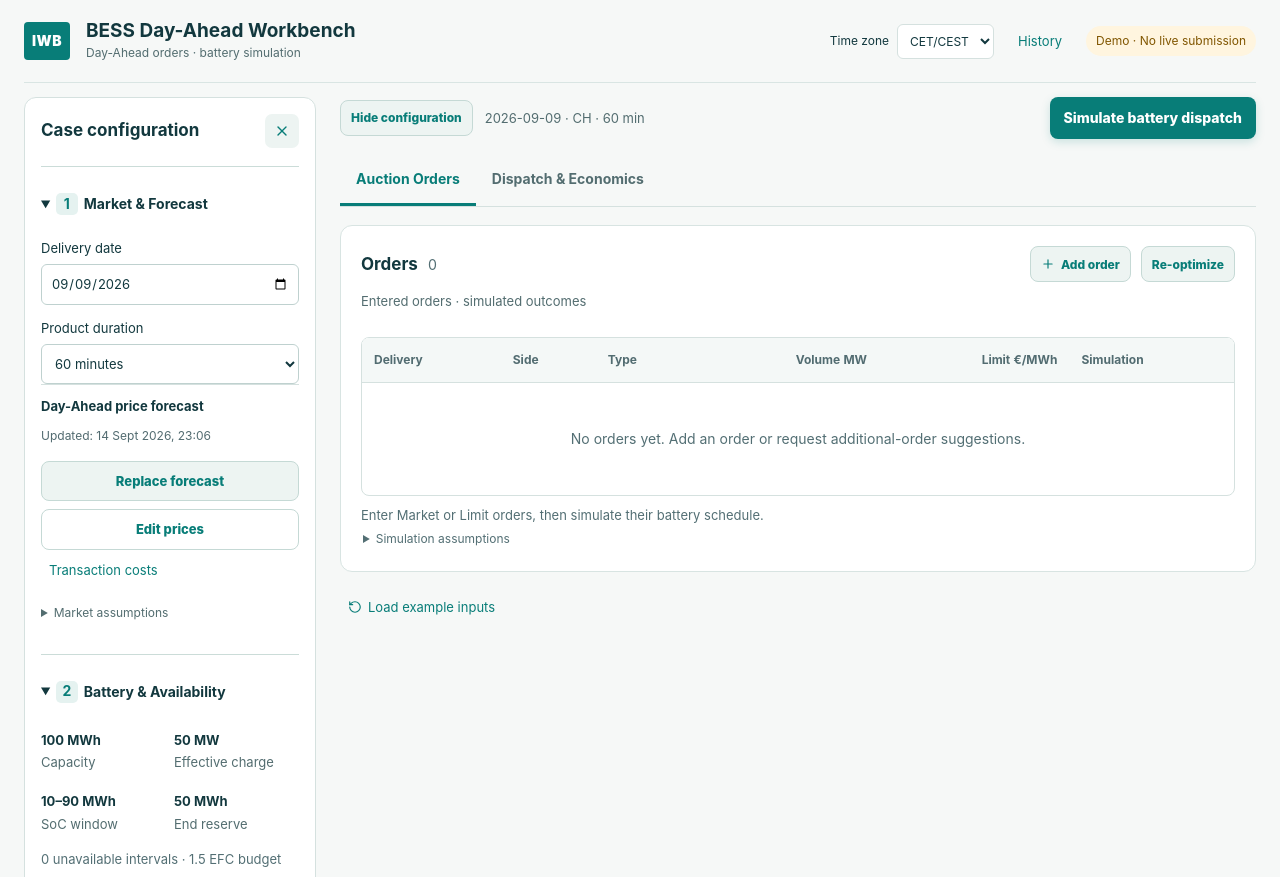
Test case: OrderSimulatorWorkbench › shows the compact forecast and all four orders, with only one editor
Check: the button "Replace forecast" is shown, box [41,460,299,501]
Click the button "Load example inputs": click(422, 607) [340,590,503,625]
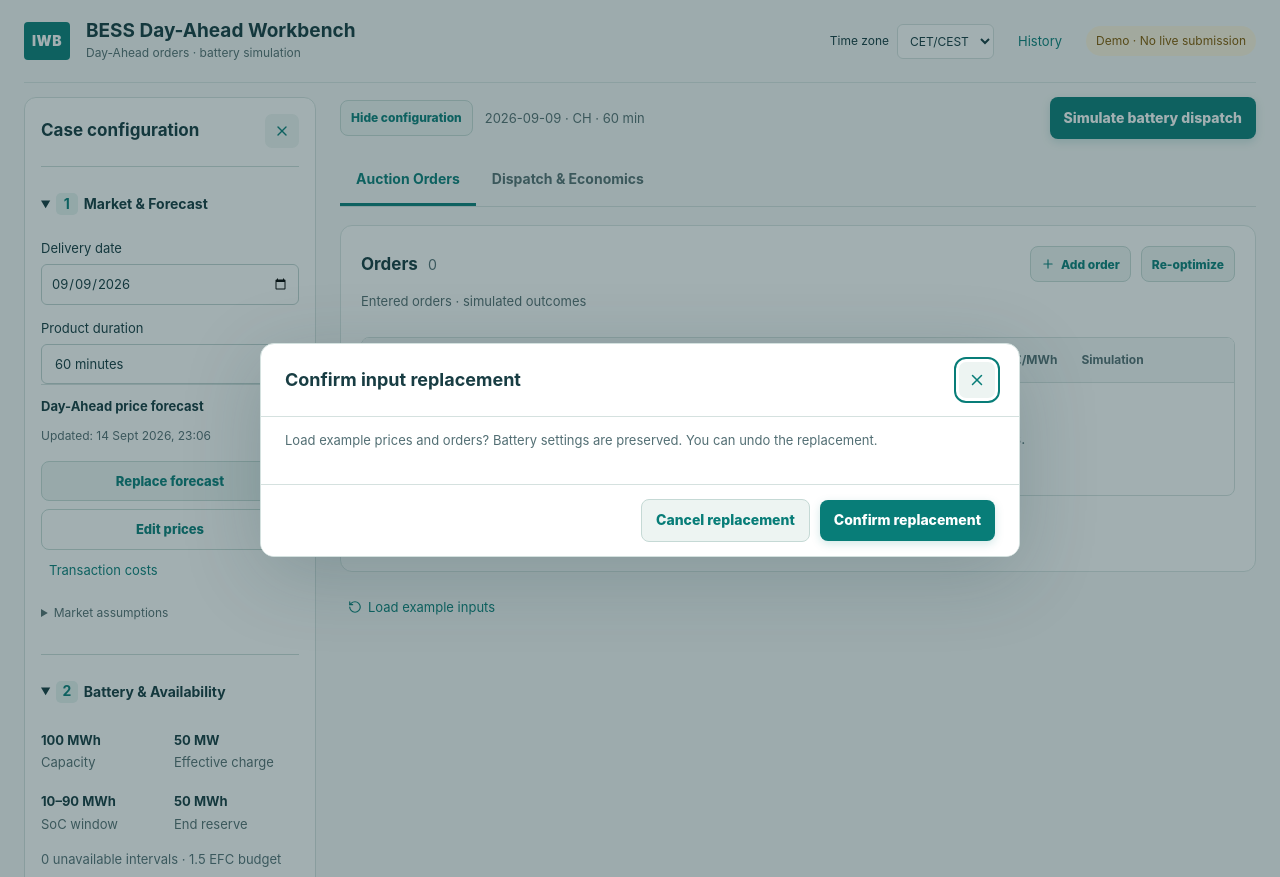
Click the button "Confirm replacement": click(907, 520) [820,500,995,541]
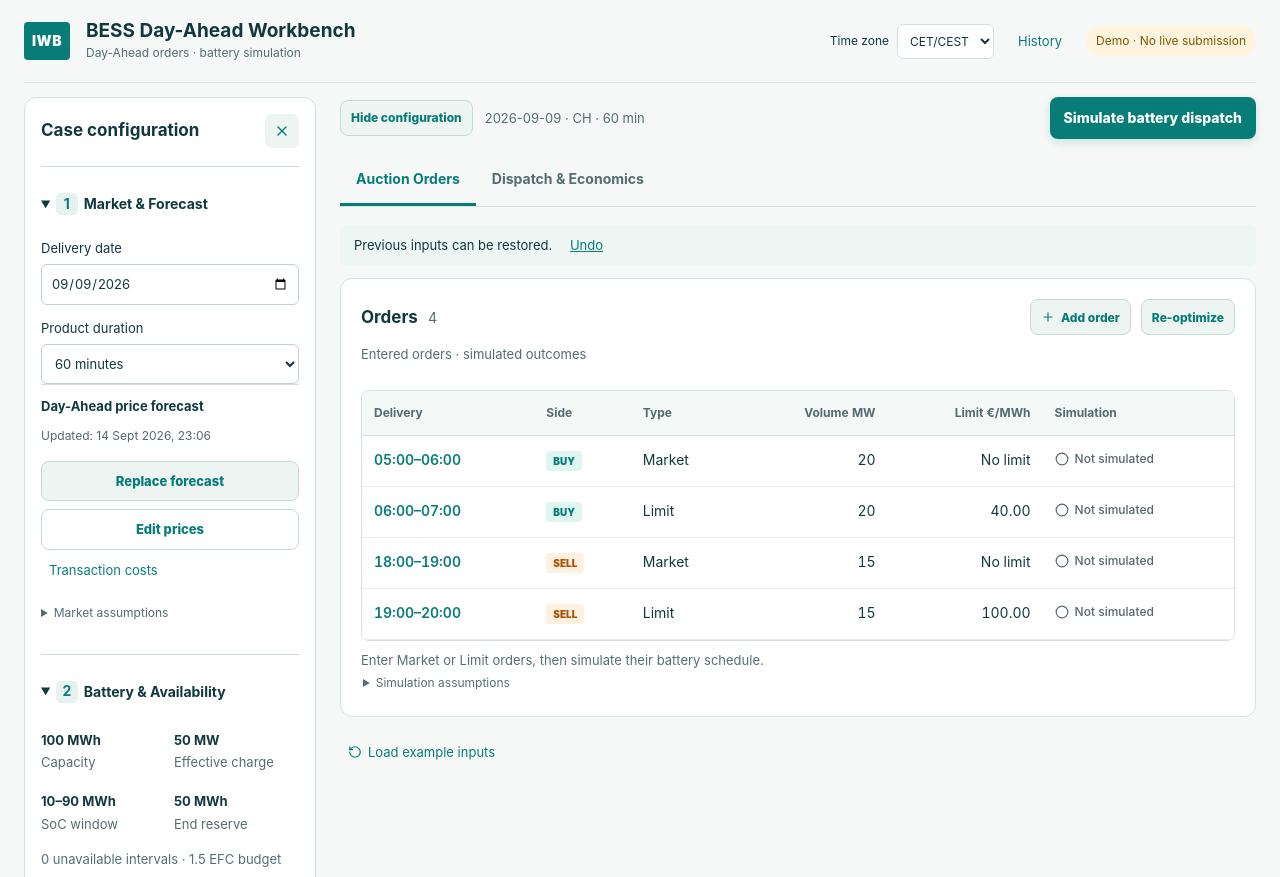
Check: the heading "BESS Day-Ahead Workbench" is shown, box [86,20,356,42]
Check: the button named "Edit 05:00–06:00 BUY order" is shown
Check: the number of buttons "05:00–06:00" is 4
Click the button named "Edit 05:00–06:00 BUY order": click(418, 461) [374,447,461,475]
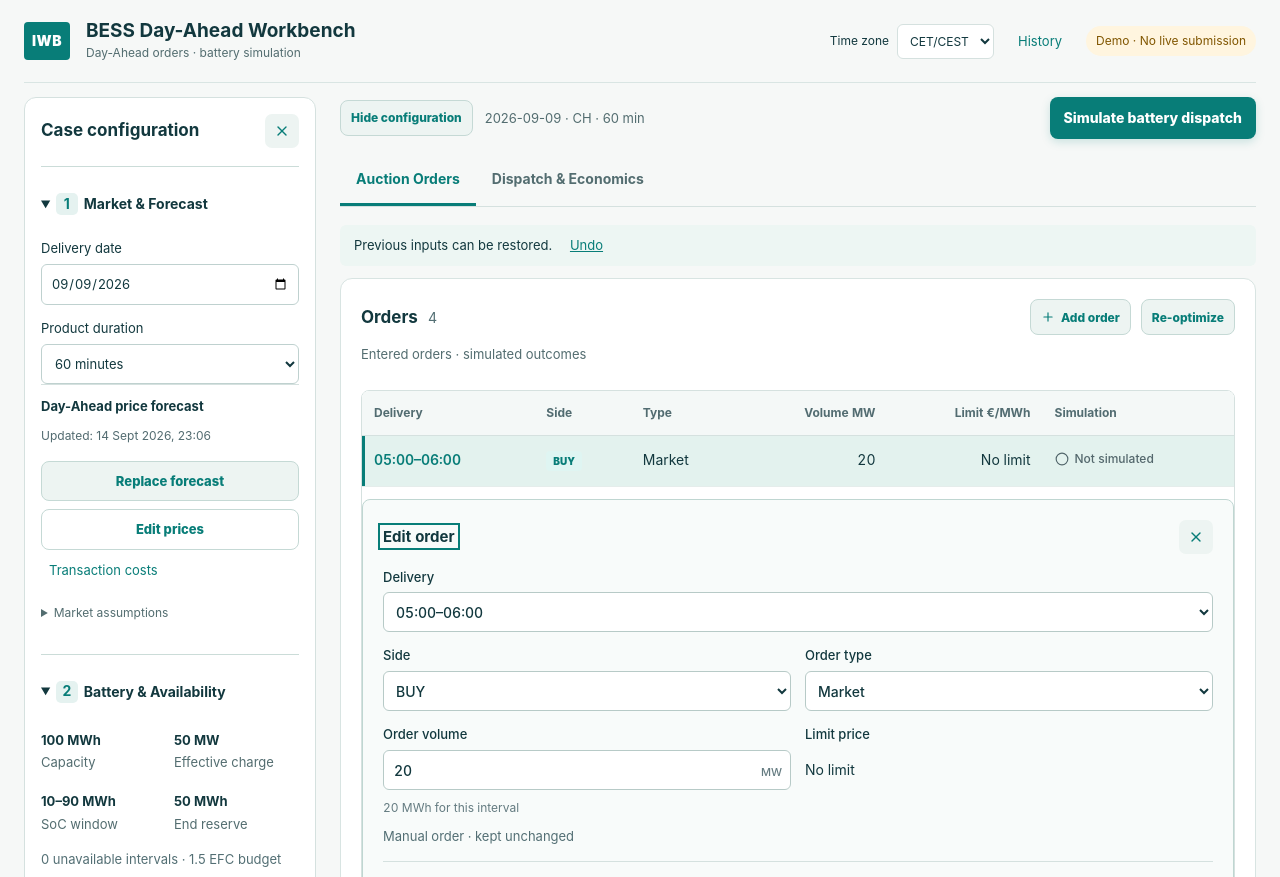
Check: the number field named "Volume for order 1" holds "20", box [383,750,791,790]
Select "Limit" in the dropdown named "Type for order 1": (1009, 691) [805,671,1213,711]
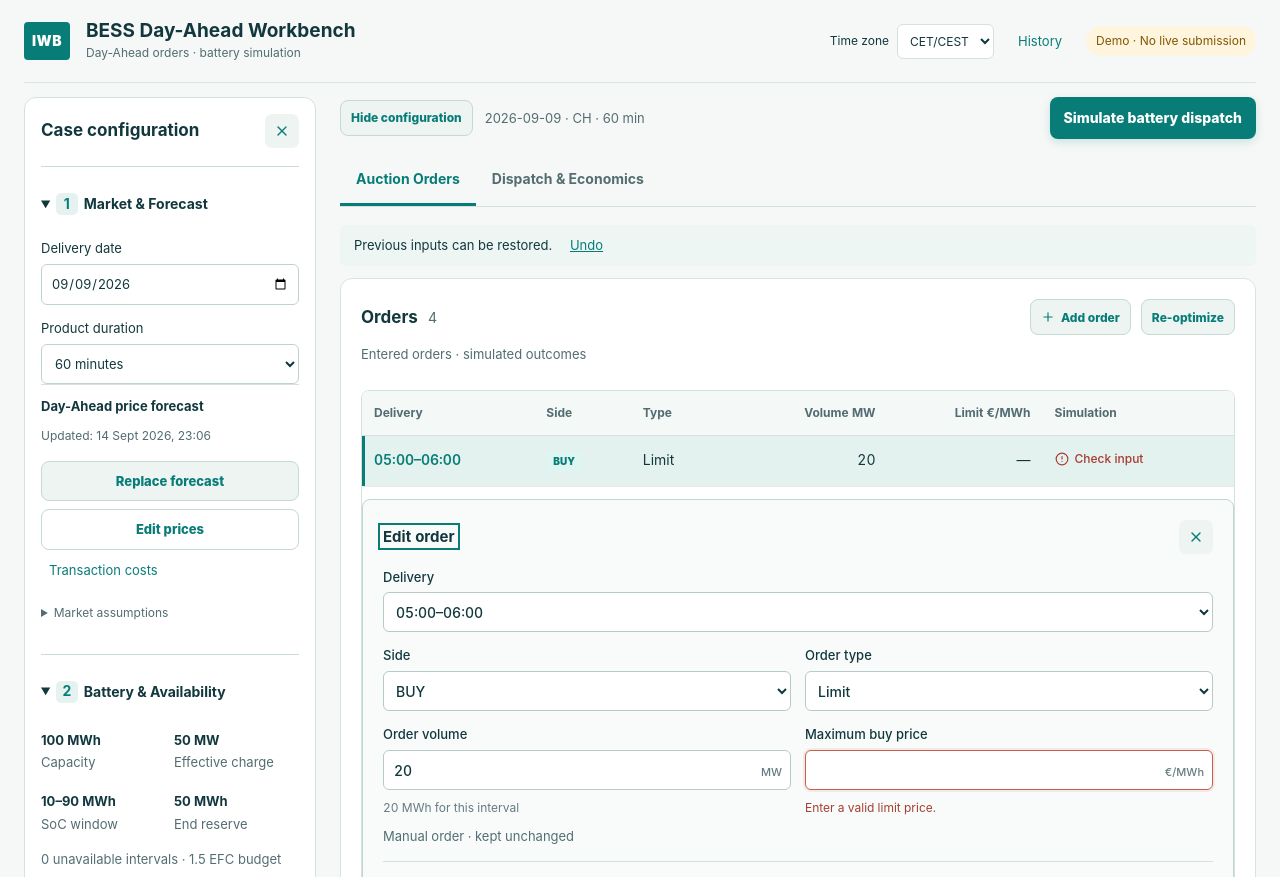
Check: the number field named "Limit price for order 1" is enabled, box [805,750,1213,790]
